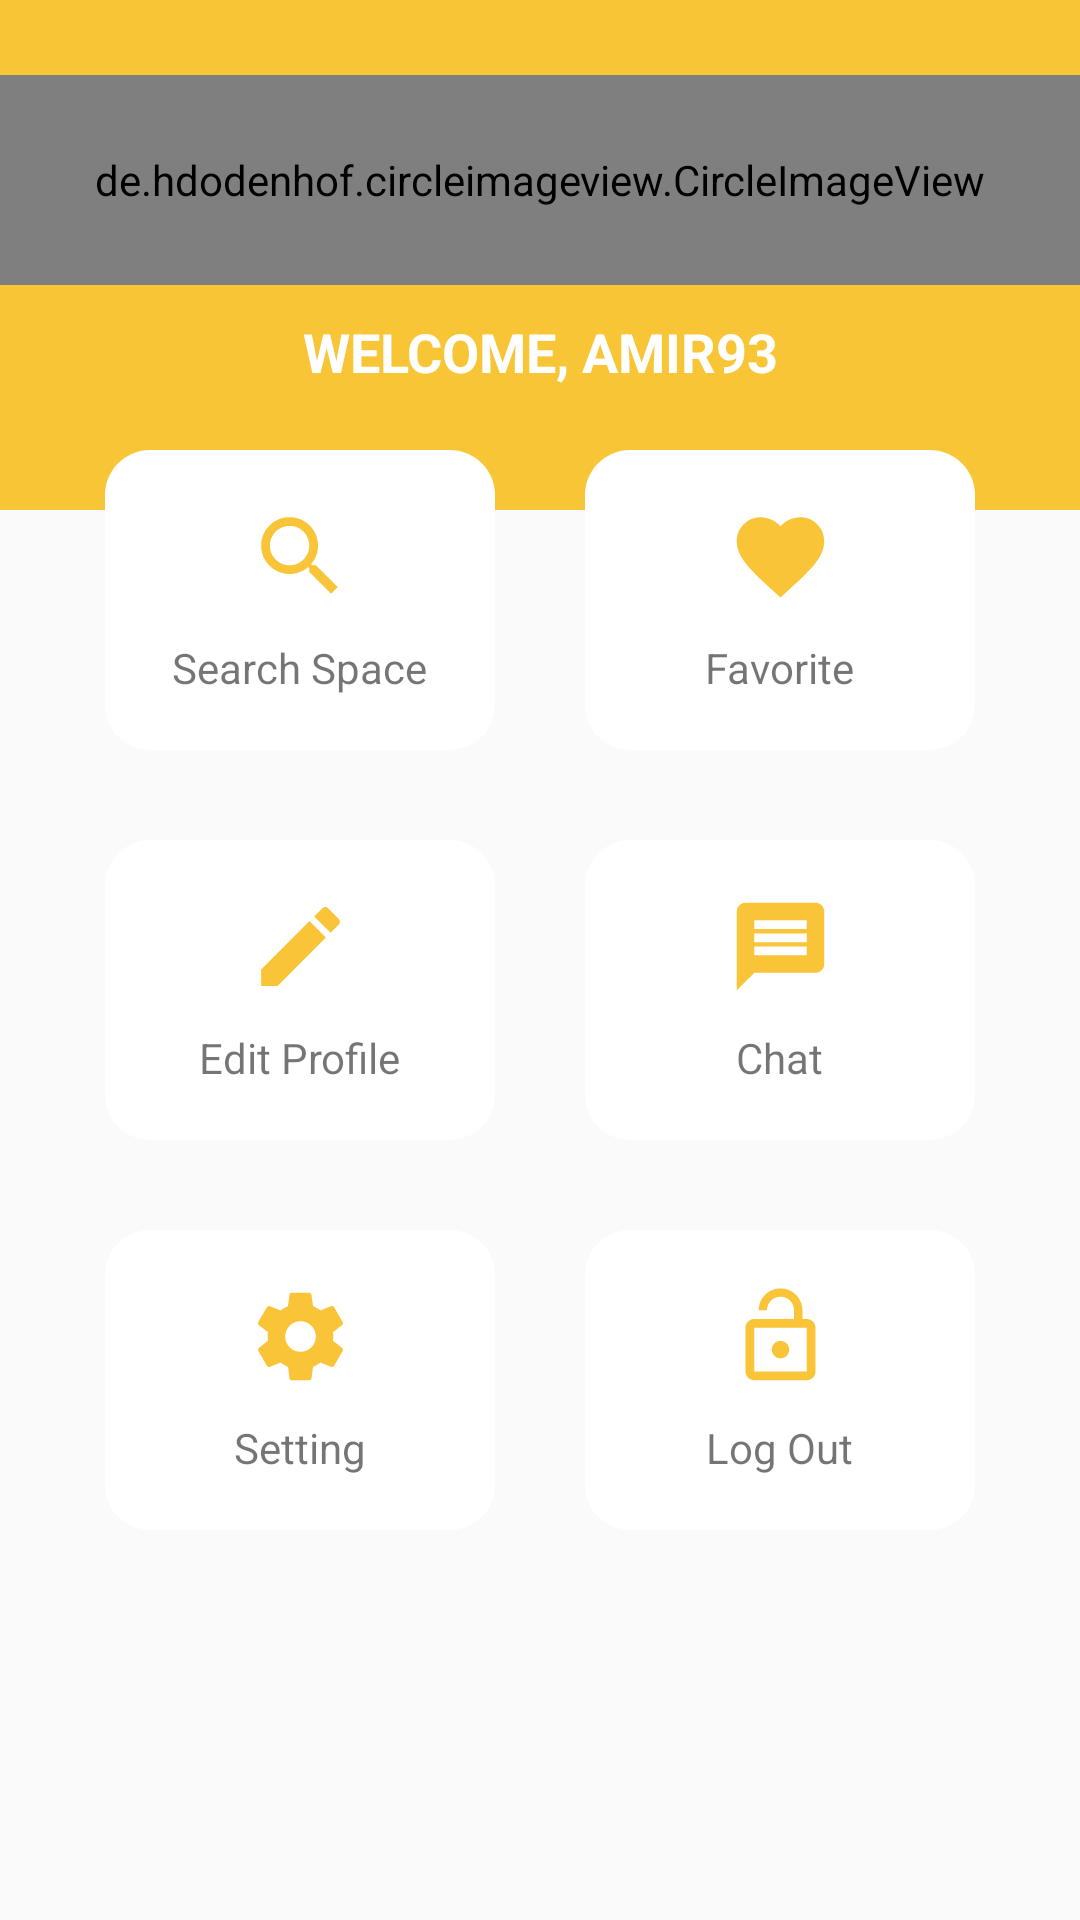

Locate icon controls on the screen. Image size 1080px x 1920px, boxes as (x1, y1, x2, y2).
fav: (736, 517, 825, 598)
